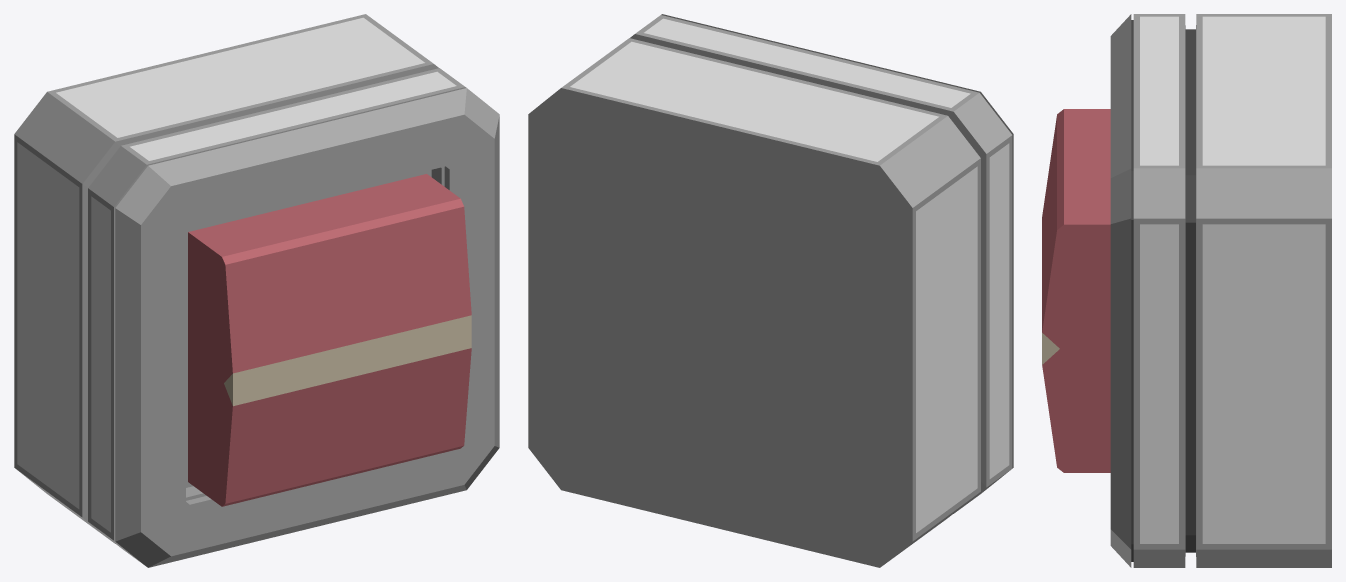
The model's file is Switch1.fbx.
3 views of the same model, side by side, from view 1: azimuth 30°, elevation 25°; view 2: azimuth 150°, elevation 25°; view 3: azimuth 270°, elevation 25° (orthographic).
Visible parts, largest first — view 1: Switch_Button_Base, Switch_Button; view 2: Switch_Button_Base; view 3: Switch_Button_Base, Switch_Button.
Boxes of the visible parts, box(x1,y1,x2,y2) form: Switch_Button_Base: box(14, 14, 499, 567); Switch_Button: box(188, 174, 471, 506); Switch_Button_Base: box(528, 14, 1013, 567); Switch_Button_Base: box(1110, 14, 1331, 567); Switch_Button: box(1042, 109, 1110, 472).
Size of the model in its own units: 200 by 200 by 131.
